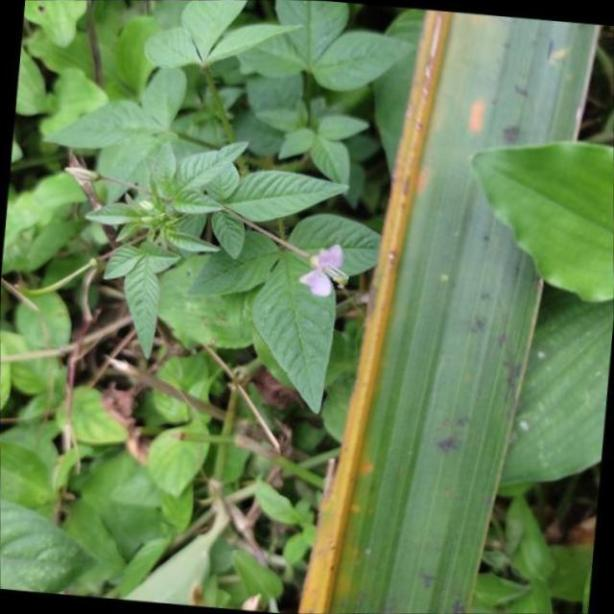Megnesium: (296, 0, 600, 614)
